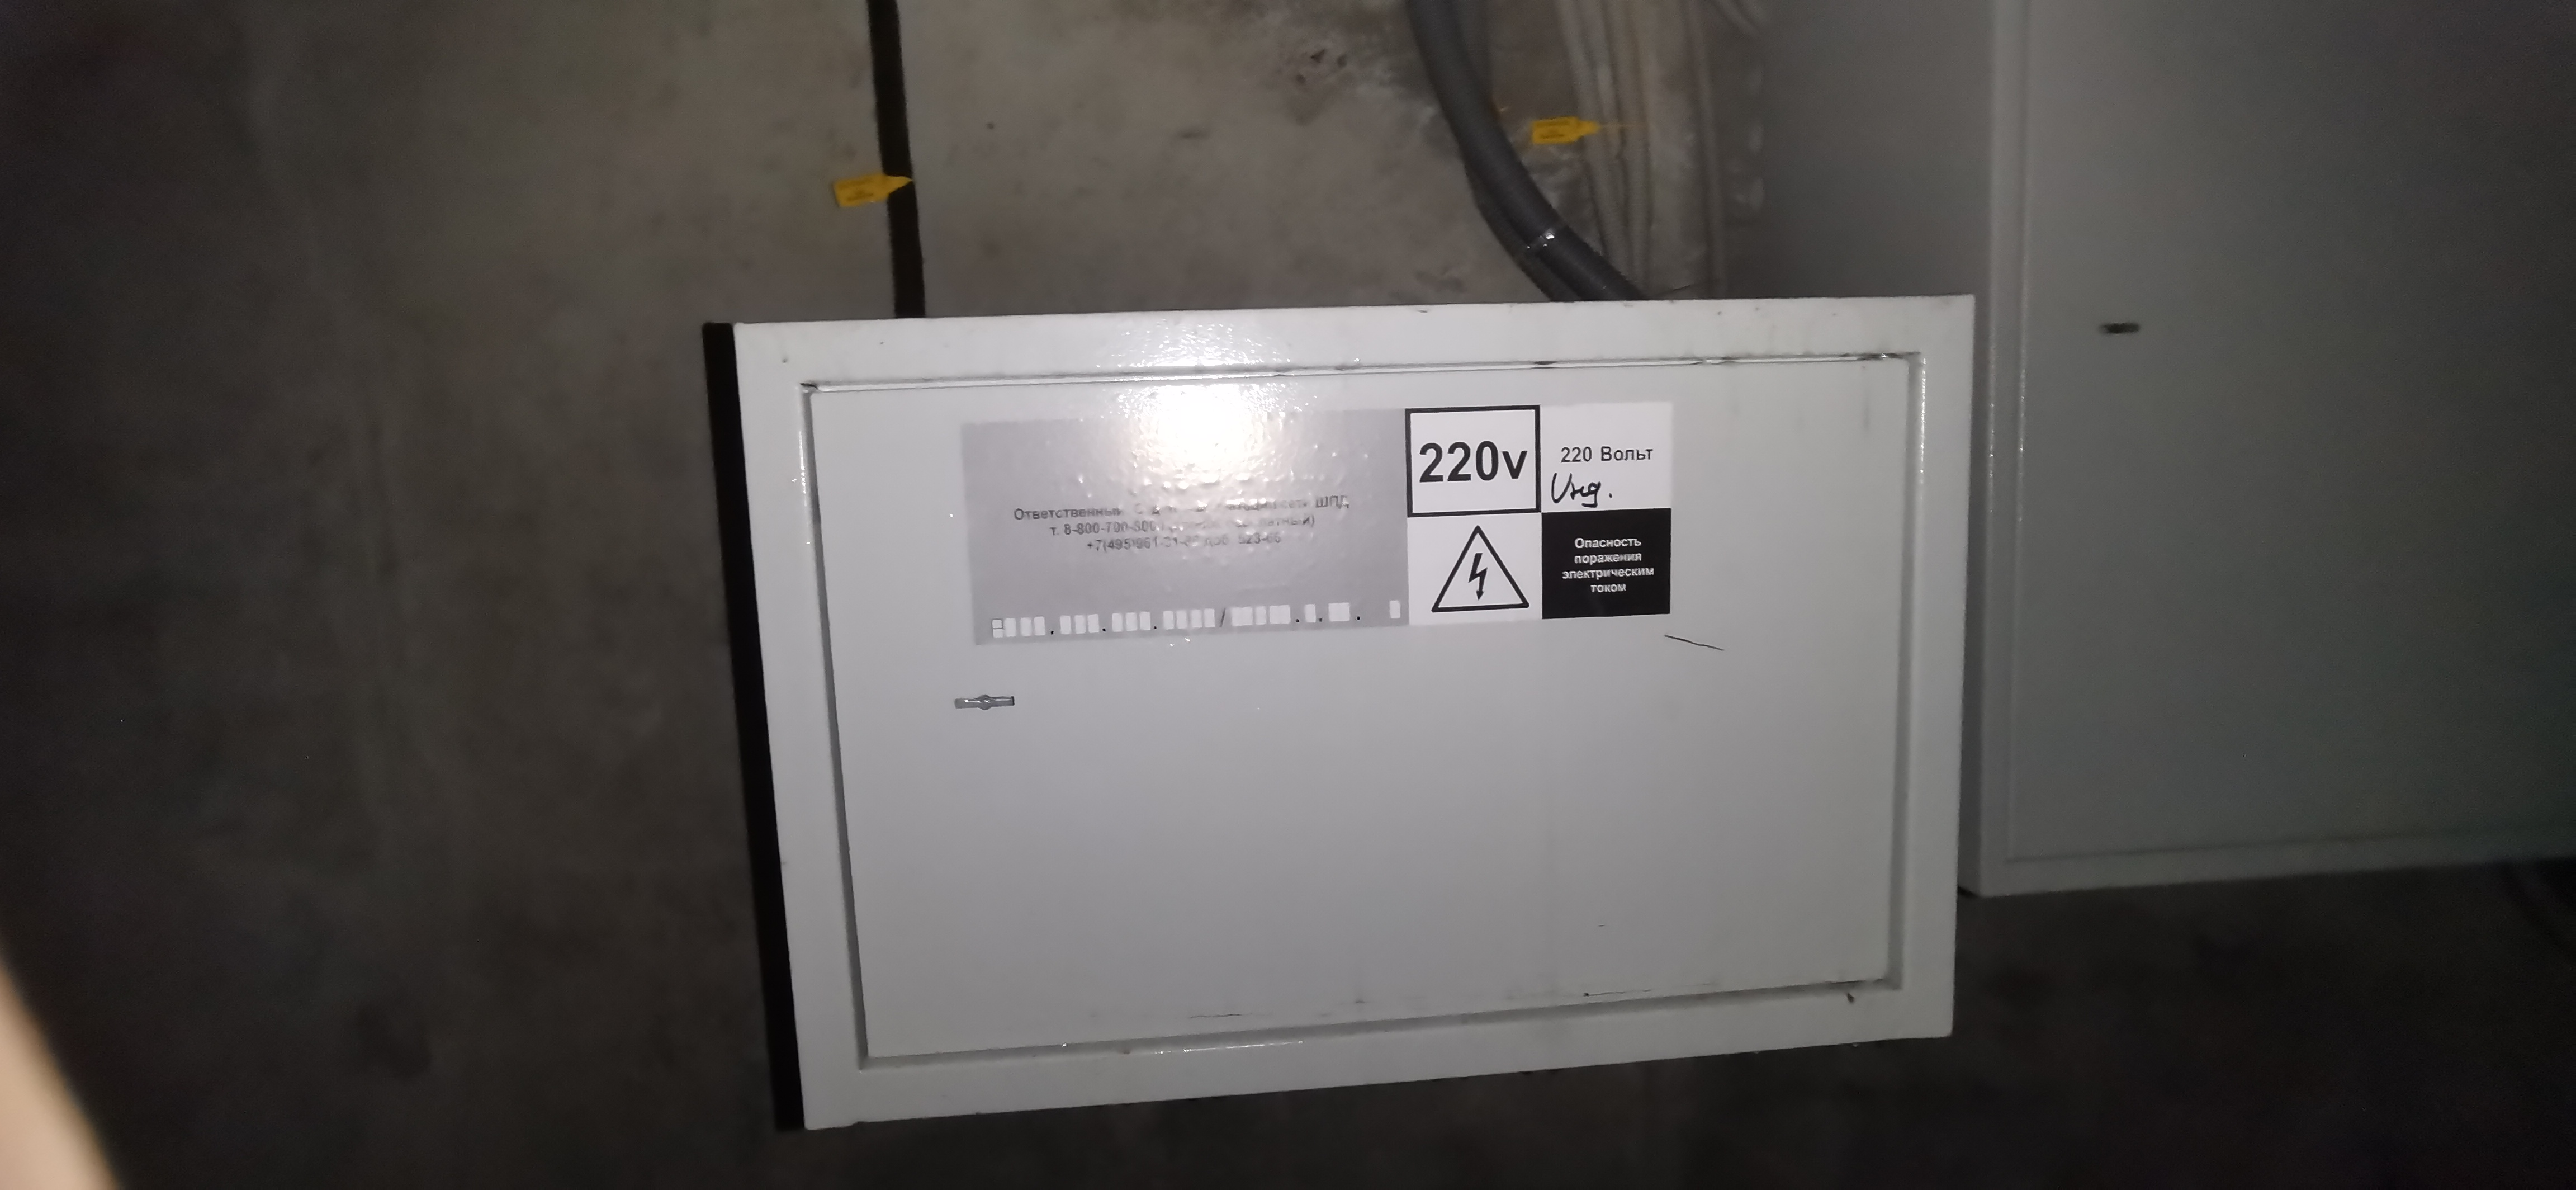shta-7m: (716, 278, 1988, 1147)
